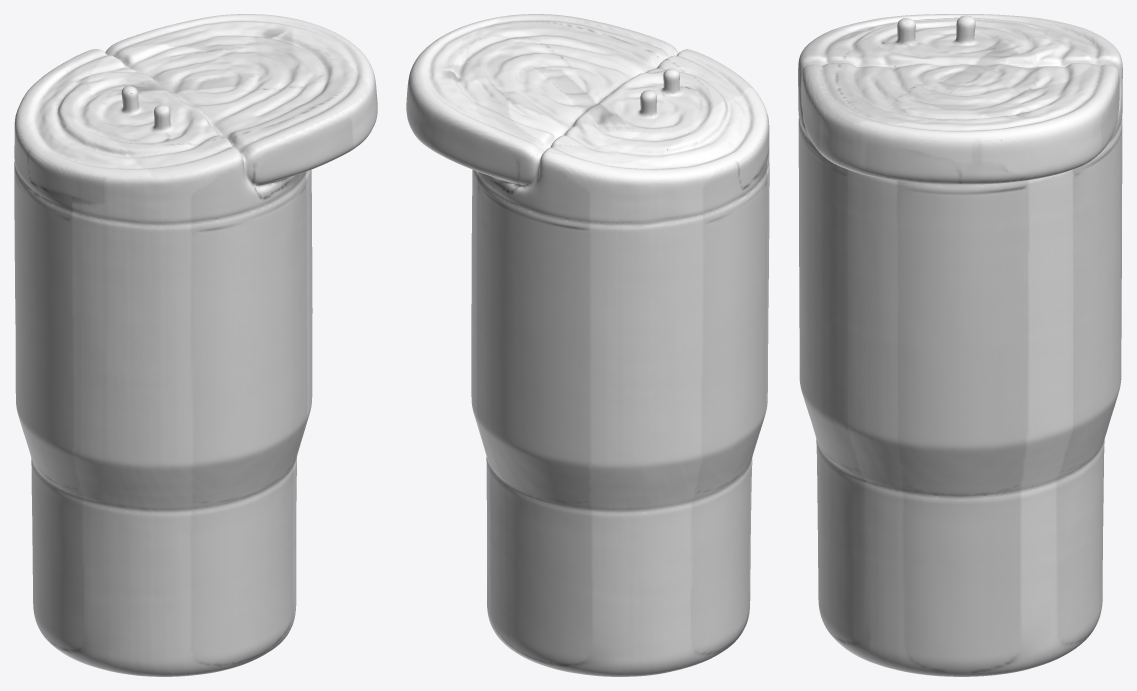
Rendered from test_baked_a60.glb.
3 renders of one model, left to right at view 1: azimuth 30°, elevation 25°; view 2: azimuth 150°, elevation 25°; view 3: azimuth 270°, elevation 25°, orthographic. The views are drawn at different scales.
Visible parts, largest first — view 1: geometry_0; view 2: geometry_0; view 3: geometry_0.
Boxes of the visible parts, x1,y1,x2,y2 form: geometry_0: (14, 14, 377, 676); geometry_0: (406, 14, 769, 676); geometry_0: (798, 14, 1122, 676).
Size of the model in its own units: 1.22 by 1.99 by 0.9917.
Materials: 1 (1 with a texture image).
